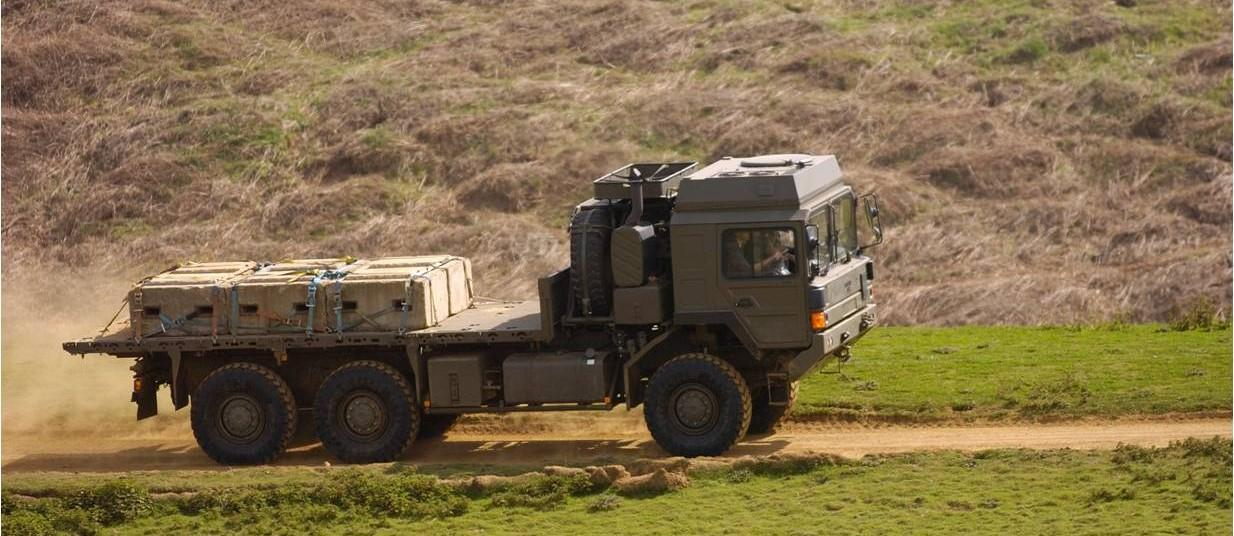truck: (61, 154, 883, 468)
